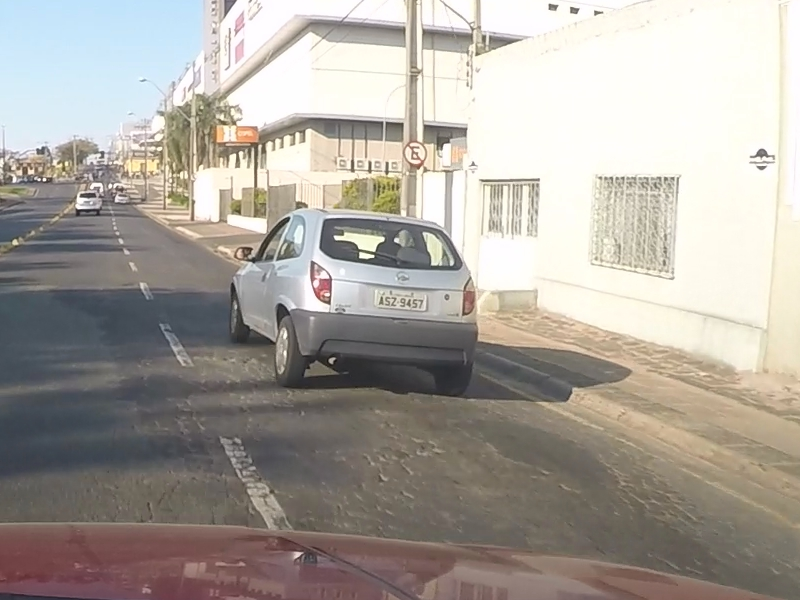placa: (374, 289, 427, 311)
